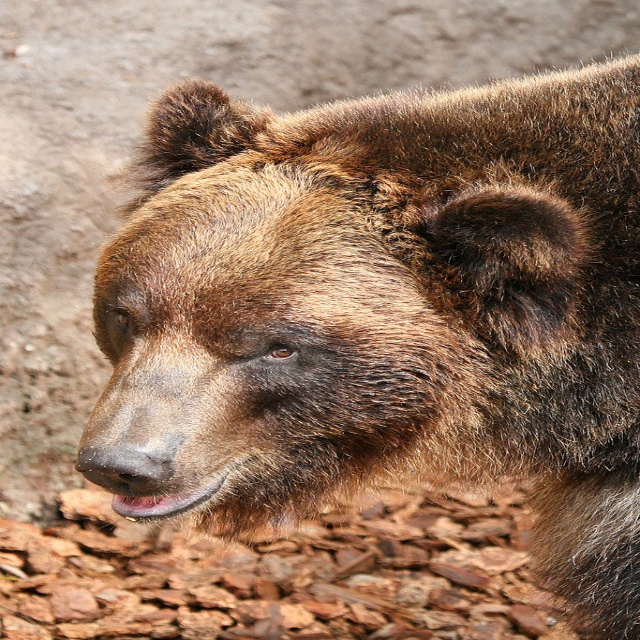Brown bear: (73, 45, 640, 640)
